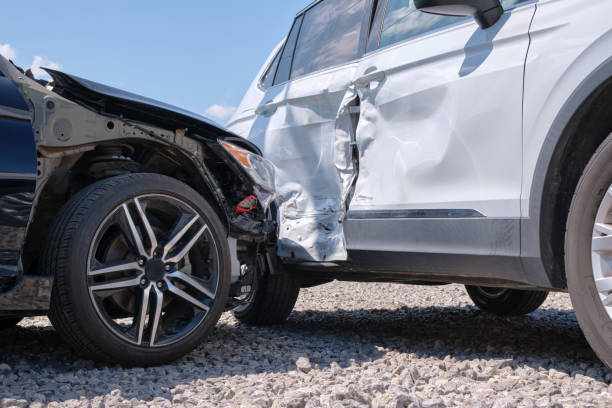Car: (3, 33, 281, 382)
